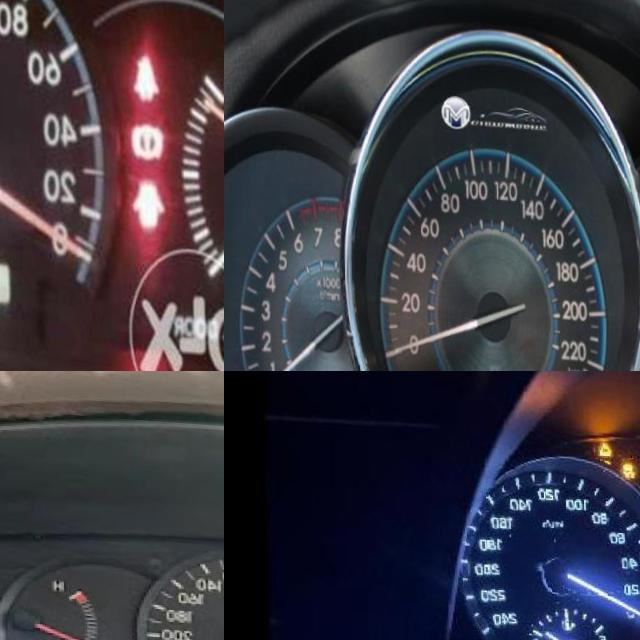Seat Belt: (131, 45, 160, 95)
